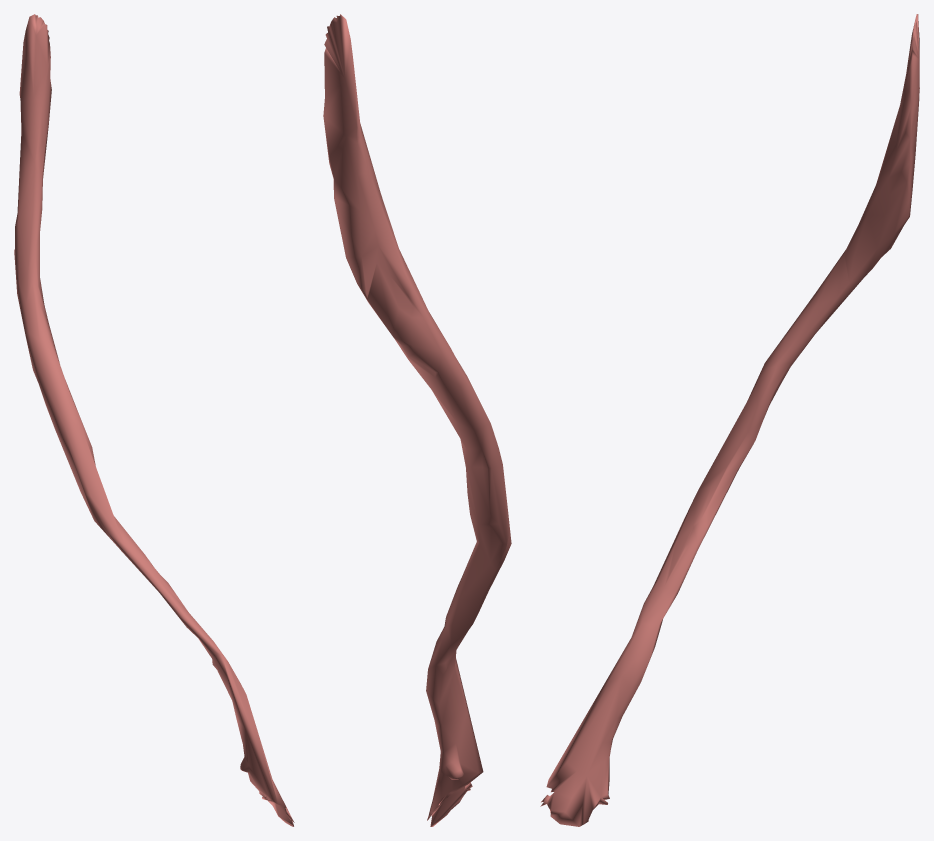
3 views of the same model, side by side, from view 1: azimuth 30°, elevation 25°; view 2: azimuth 150°, elevation 25°; view 3: azimuth 270°, elevation 25° (orthographic). The views are drawn at different scales.
Parts seen in each view (by area): view 1: ZA_66bfbbc784423e14; view 2: ZA_66bfbbc784423e14; view 3: ZA_66bfbbc784423e14.
Boxes of the visible parts, x1,y1,x2,y2 form: ZA_66bfbbc784423e14: (14,14,294,826); ZA_66bfbbc784423e14: (323,14,511,826); ZA_66bfbbc784423e14: (540,14,919,826).
Bounding box in the file's own units: 0.0255 × 0.1229 × 0.0553.
